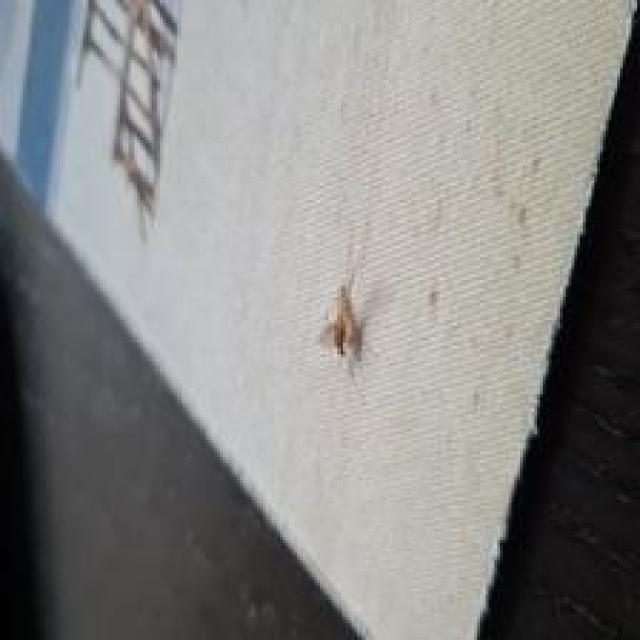Culex: (71, 0, 186, 240)
